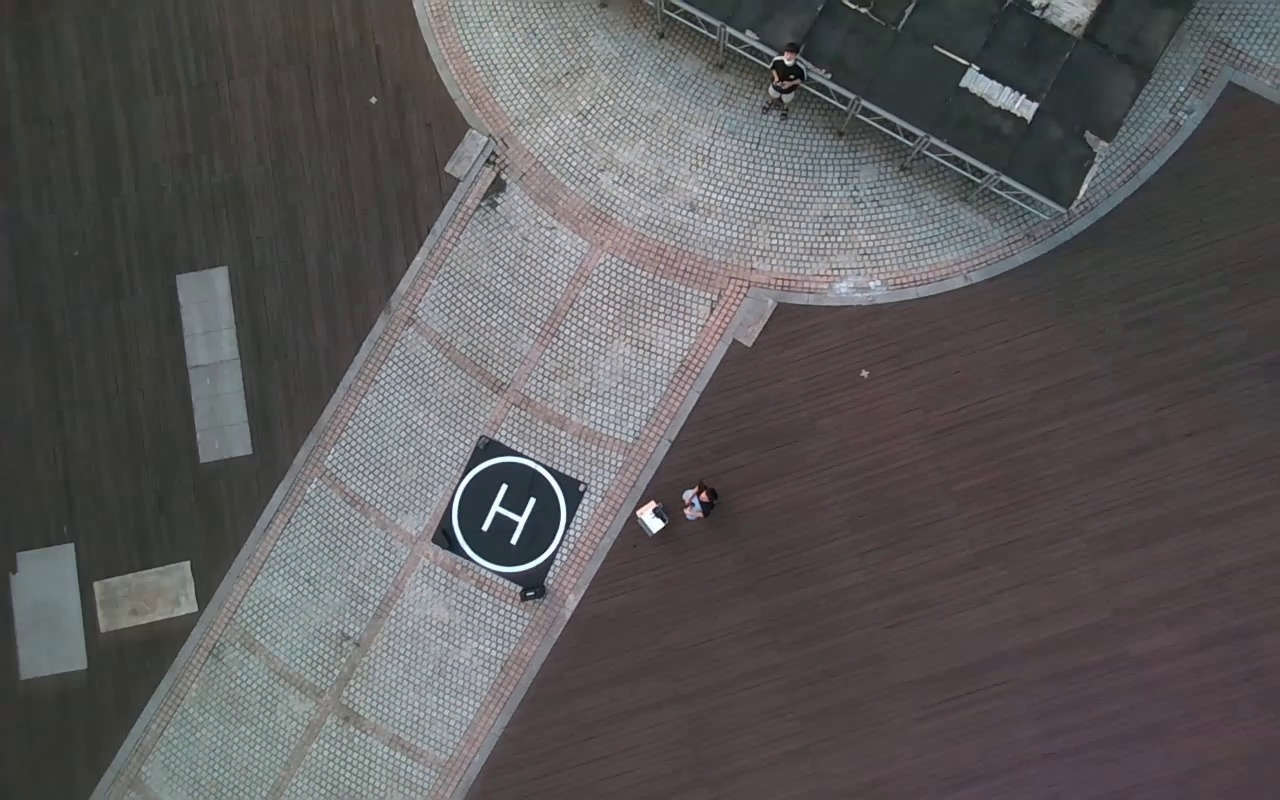H: (480, 481, 538, 546)
heliport: (452, 455, 568, 569)
